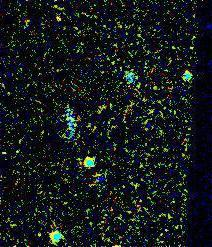star: (38, 0, 68, 25)
